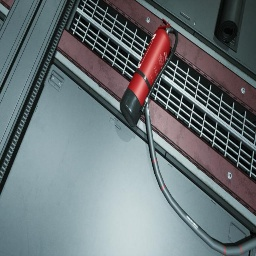FireExtinguisher ]: (120, 18, 178, 127)
